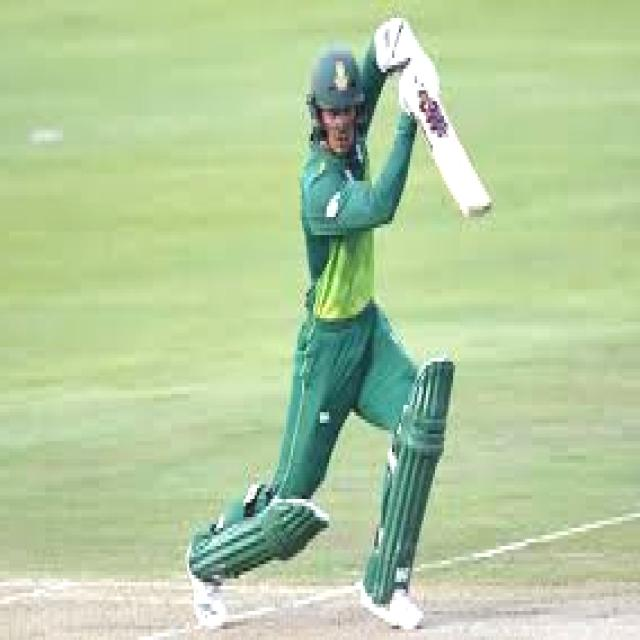toe: (448, 183, 495, 225)
